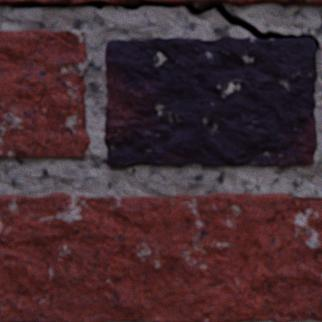brick: (0, 192, 321, 321), (105, 37, 317, 166), (0, 30, 91, 157), (151, 0, 321, 6), (0, 0, 135, 5)
crack: (1, 0, 319, 49)
